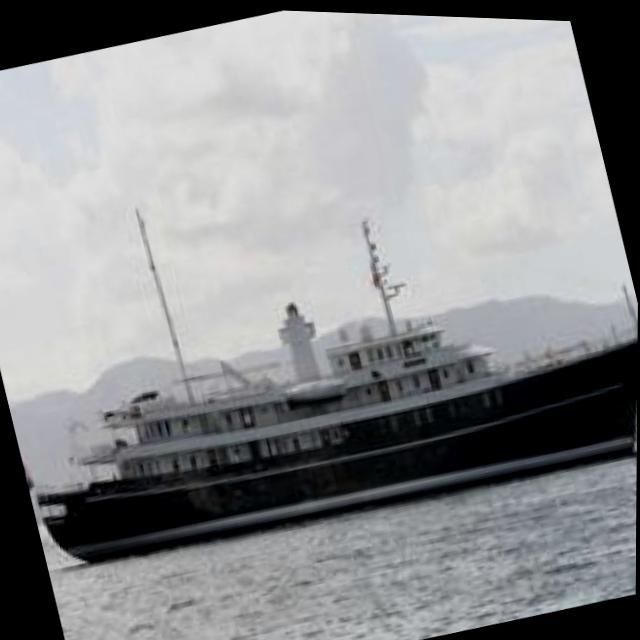ship2: (36, 187, 638, 565)
